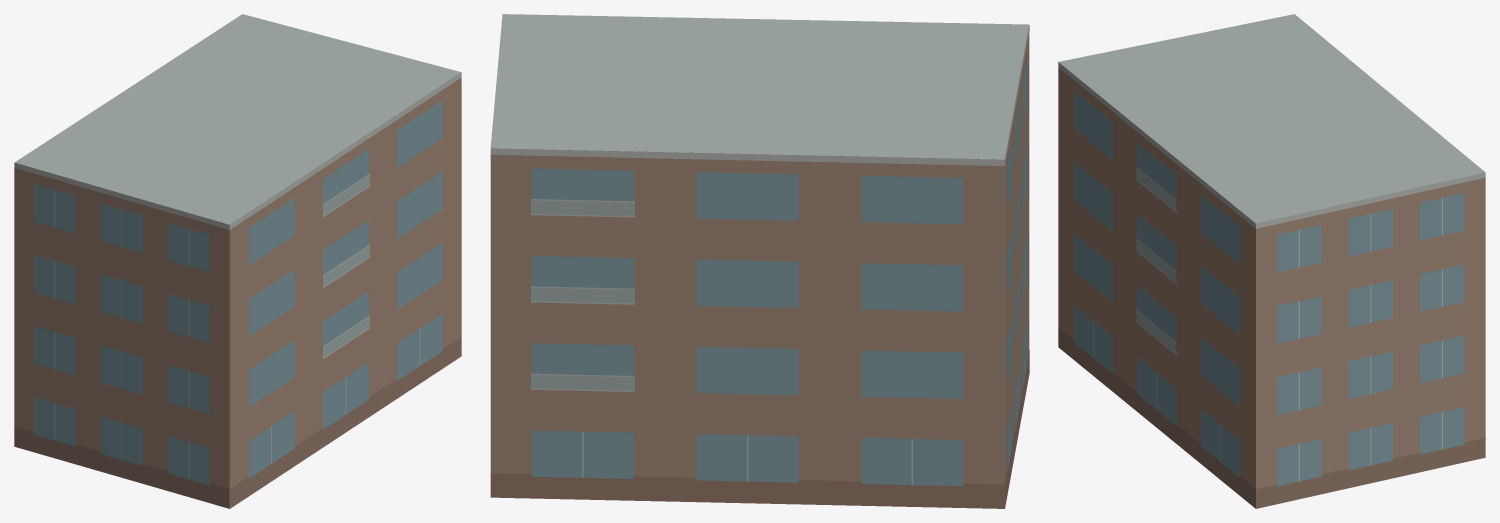
The model's file is survey-upis-32701135.glb.
3 views of the same model, side by side, from view 1: azimuth 30°, elevation 25°; view 2: azimuth 150°, elevation 25°; view 3: azimuth 270°, elevation 25° (orthographic). The views are drawn at different scales.
Visible parts, largest first — view 1: survey-upis-32701135.tmp; view 2: survey-upis-32701135.tmp; view 3: survey-upis-32701135.tmp.
Boxes of the visible parts, x1=… form: survey-upis-32701135.tmp: x1=14, y1=14, x2=461, y2=508; survey-upis-32701135.tmp: x1=490, y1=14, x2=1029, y2=508; survey-upis-32701135.tmp: x1=1058, y1=14, x2=1485, y2=508.
Size of the model in its own units: 20.82 by 13.2 by 17.93.
